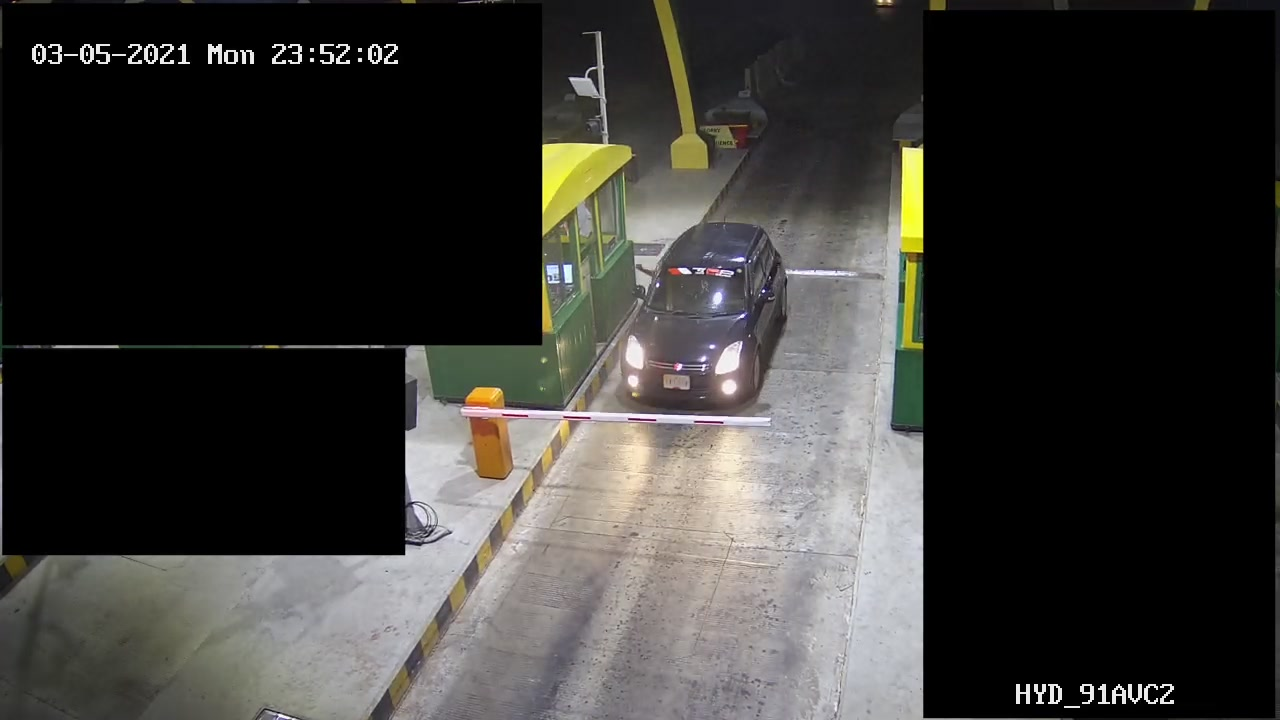F1: (618, 220, 801, 411)
